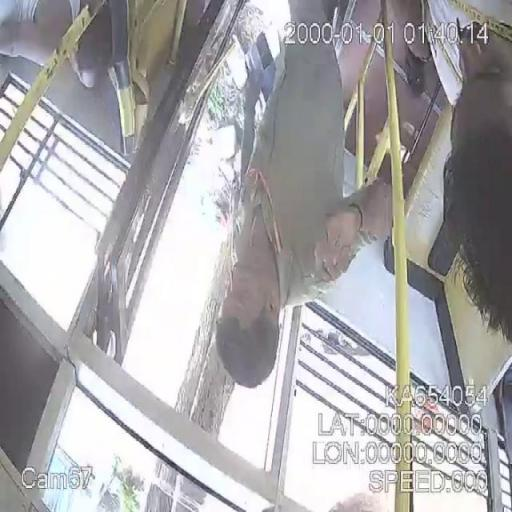persona: (213, 0, 394, 391), (424, 0, 512, 354)
